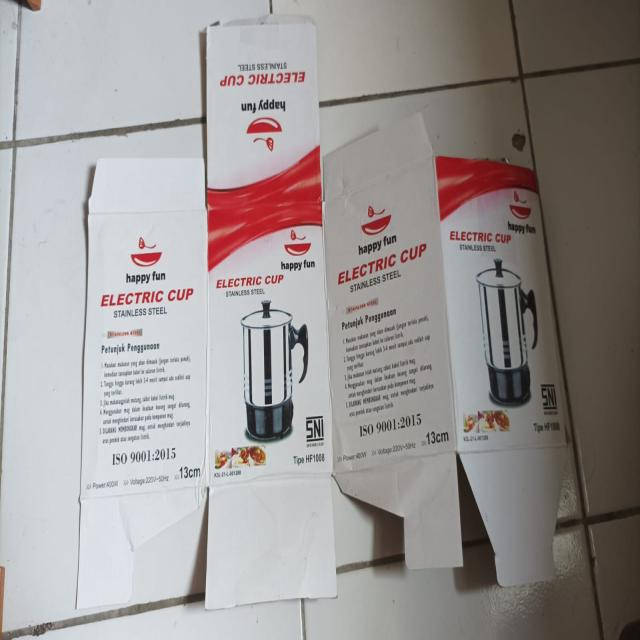Organik: (76, 24, 569, 610)
